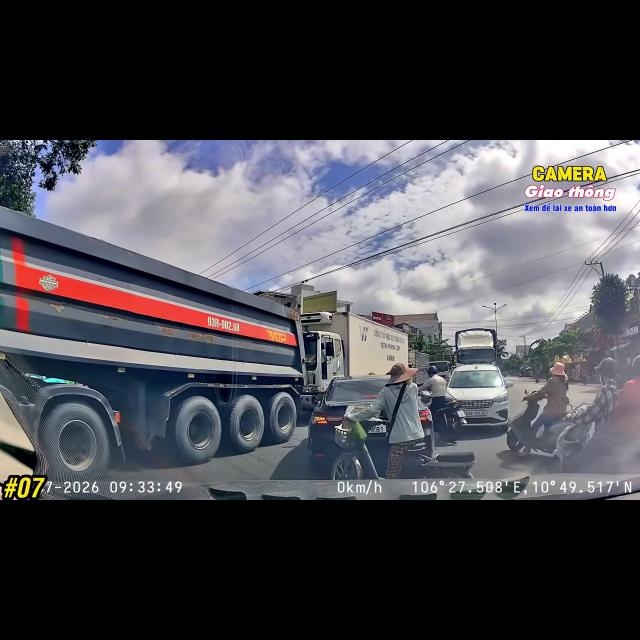car: (308, 375, 388, 467), (446, 364, 513, 432)
motorcycle: (507, 401, 572, 453), (331, 421, 383, 480), (419, 390, 466, 441), (553, 423, 593, 471)
truck: (0, 207, 307, 477), (301, 312, 408, 409), (455, 328, 497, 365), (430, 361, 450, 379)
